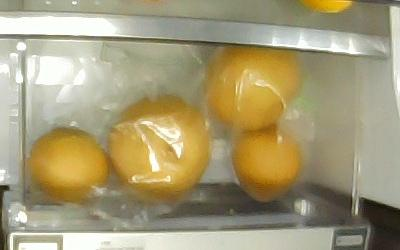pear_vinyl: (108, 98, 210, 197), (205, 45, 300, 131), (29, 127, 110, 203), (231, 131, 300, 202)
